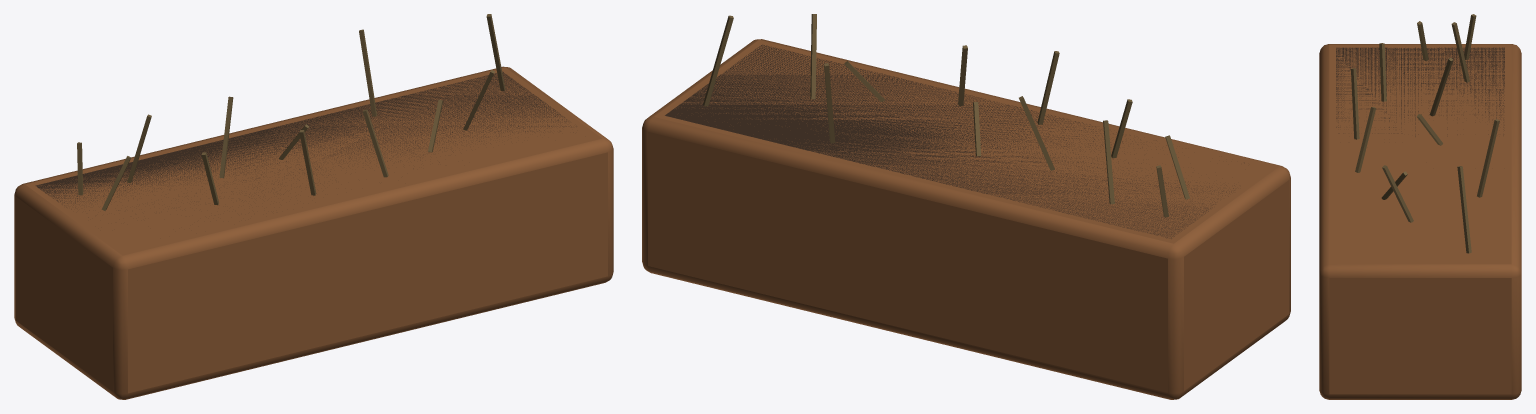
Rendered from flower_planter_dead.fbx.
3 renders of one model, left to right at view 1: azimuth 30°, elevation 25°; view 2: azimuth 150°, elevation 25°; view 3: azimuth 270°, elevation 25°, orthographic. The views are drawn at different scales.
Parts seen in each view (by area): view 1: flower_planter_dead; view 2: flower_planter_dead; view 3: flower_planter_dead.
Part boxes in pixels (left/top/right/bottom): flower_planter_dead: left=14, top=14, right=613, bottom=399; flower_planter_dead: left=642, top=14, right=1290, bottom=399; flower_planter_dead: left=1319, top=14, right=1521, bottom=399.
Size of the model in its own units: 1.6 by 0.6961 by 0.6.
